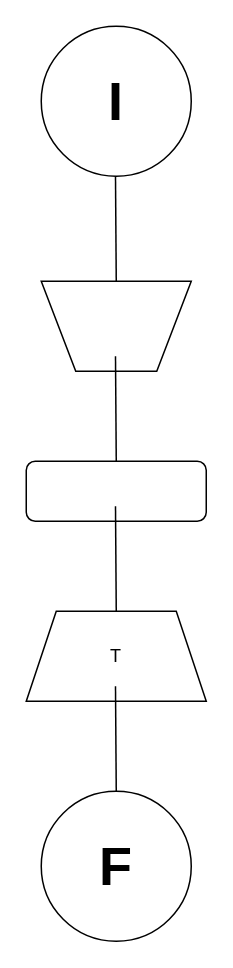
This 233x968 diagram has some shape labels left out. Each missing label, with the centre of its shape:
KMS, VEL: (115,325)
T = KMS / VEL: (115,490)
